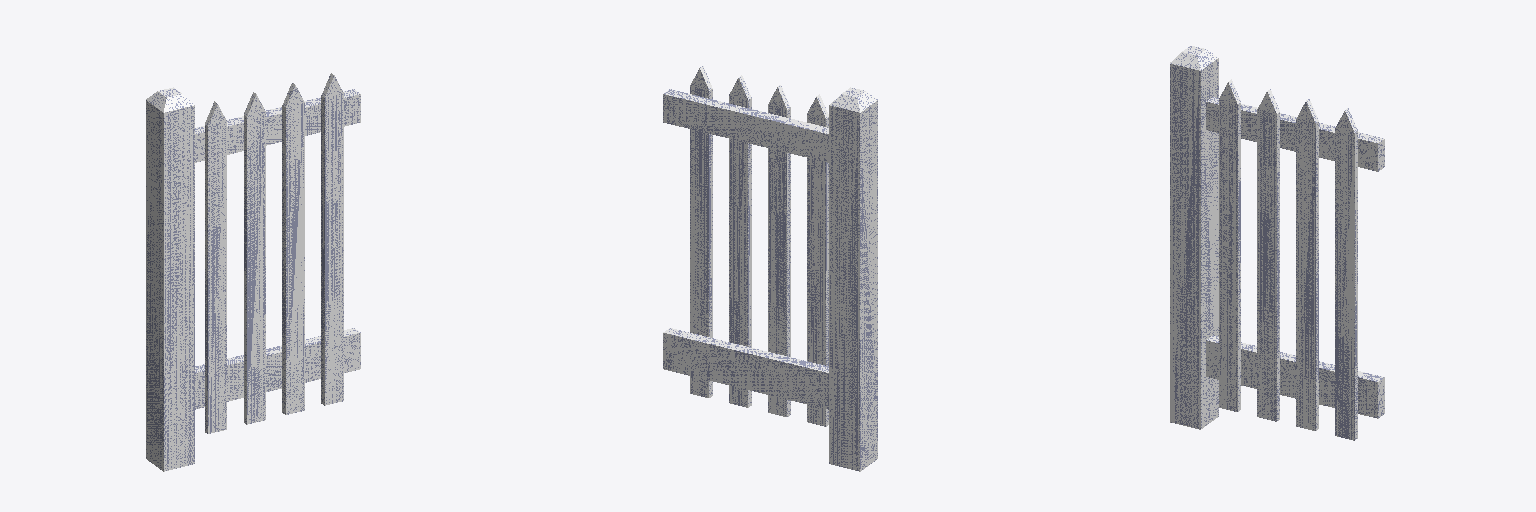
The picture shows the model from 3 angles: view 1: azimuth 30°, elevation 25°; view 2: azimuth 150°, elevation 25°; view 3: azimuth 330°, elevation 25°; orthographic projection.
Visible parts, largest first — view 1: Mesh1 Pole Model, Mesh13 Picket_copy_003 Model, Mesh11 Picket_copy_002 Model, Mesh7 Picket Model, Mesh9 Picket_copy_001 Model, Mesh5 BottomRail Model, Mesh3 TopRail Model; view 2: Mesh1 Pole Model, Mesh5 BottomRail Model, Mesh3 TopRail Model, Mesh11 Picket_copy_002 Model, Mesh9 Picket_copy_001 Model, Mesh13 Picket_copy_003 Model, Mesh7 Picket Model; view 3: Mesh1 Pole Model, Mesh9 Picket_copy_001 Model, Mesh13 Picket_copy_003 Model, Mesh11 Picket_copy_002 Model, Mesh7 Picket Model, Mesh5 BottomRail Model, Mesh3 TopRail Model.
Part boxes in pixels (bbox=[...]): Mesh1 Pole Model: bbox=[146, 87, 194, 471]; Mesh13 Picket_copy_003 Model: bbox=[321, 73, 343, 405]; Mesh11 Picket_copy_002 Model: bbox=[282, 83, 304, 414]; Mesh7 Picket Model: bbox=[205, 101, 226, 433]; Mesh9 Picket_copy_001 Model: bbox=[244, 92, 265, 424]; Mesh5 BottomRail Model: bbox=[195, 328, 360, 409]; Mesh3 TopRail Model: bbox=[195, 89, 360, 162]; Mesh1 Pole Model: bbox=[829, 87, 877, 471]; Mesh5 BottomRail Model: bbox=[663, 328, 828, 409]; Mesh3 TopRail Model: bbox=[663, 89, 828, 162]; Mesh11 Picket_copy_002 Model: bbox=[729, 75, 751, 407]; Mesh9 Picket_copy_001 Model: bbox=[768, 85, 790, 416]; Mesh13 Picket_copy_003 Model: bbox=[690, 66, 712, 397]; Mesh7 Picket Model: bbox=[807, 94, 828, 426]; Mesh1 Pole Model: bbox=[1170, 46, 1218, 429]; Mesh9 Picket_copy_001 Model: bbox=[1257, 89, 1279, 421]; Mesh13 Picket_copy_003 Model: bbox=[1335, 108, 1357, 440]; Mesh11 Picket_copy_002 Model: bbox=[1296, 99, 1318, 430]; Mesh7 Picket Model: bbox=[1219, 79, 1240, 411]; Mesh5 BottomRail Model: bbox=[1206, 335, 1384, 418]; Mesh3 TopRail Model: bbox=[1206, 97, 1384, 171].
Bounding box in the file's own units: 26.08 × 45.31 × 4.